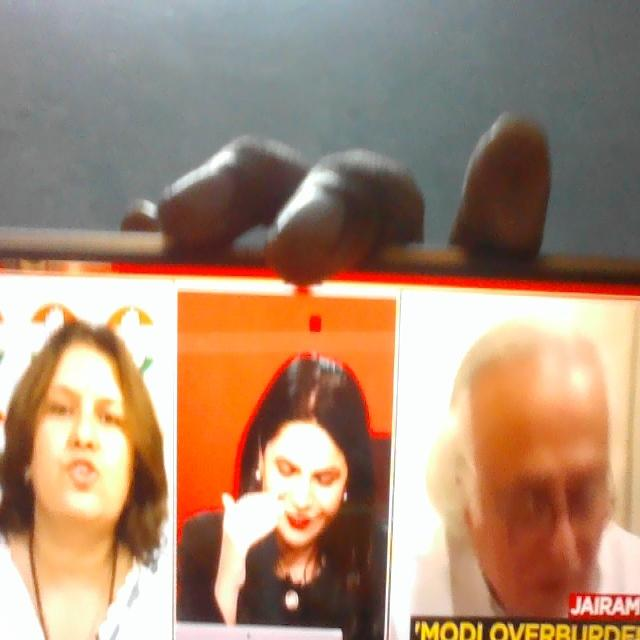fake: (20, 291, 146, 528)
